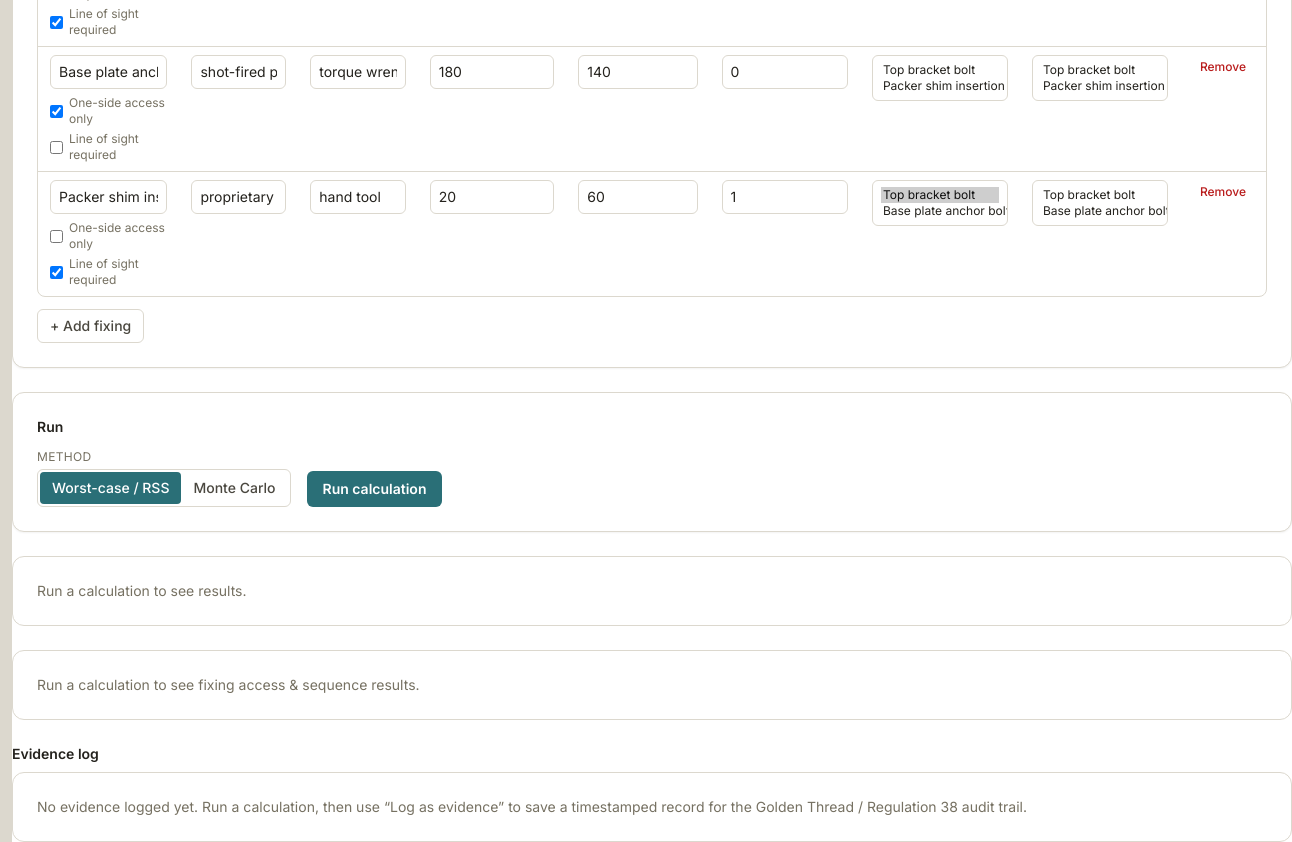
DvaTool end-to-end wiring › runs a worst-case/RSS calculation on the preset junction and shows results
The image size is (1292, 842).
(page scrolled)
Click the button "Run calculation": (374, 489) [306,471,442,507]
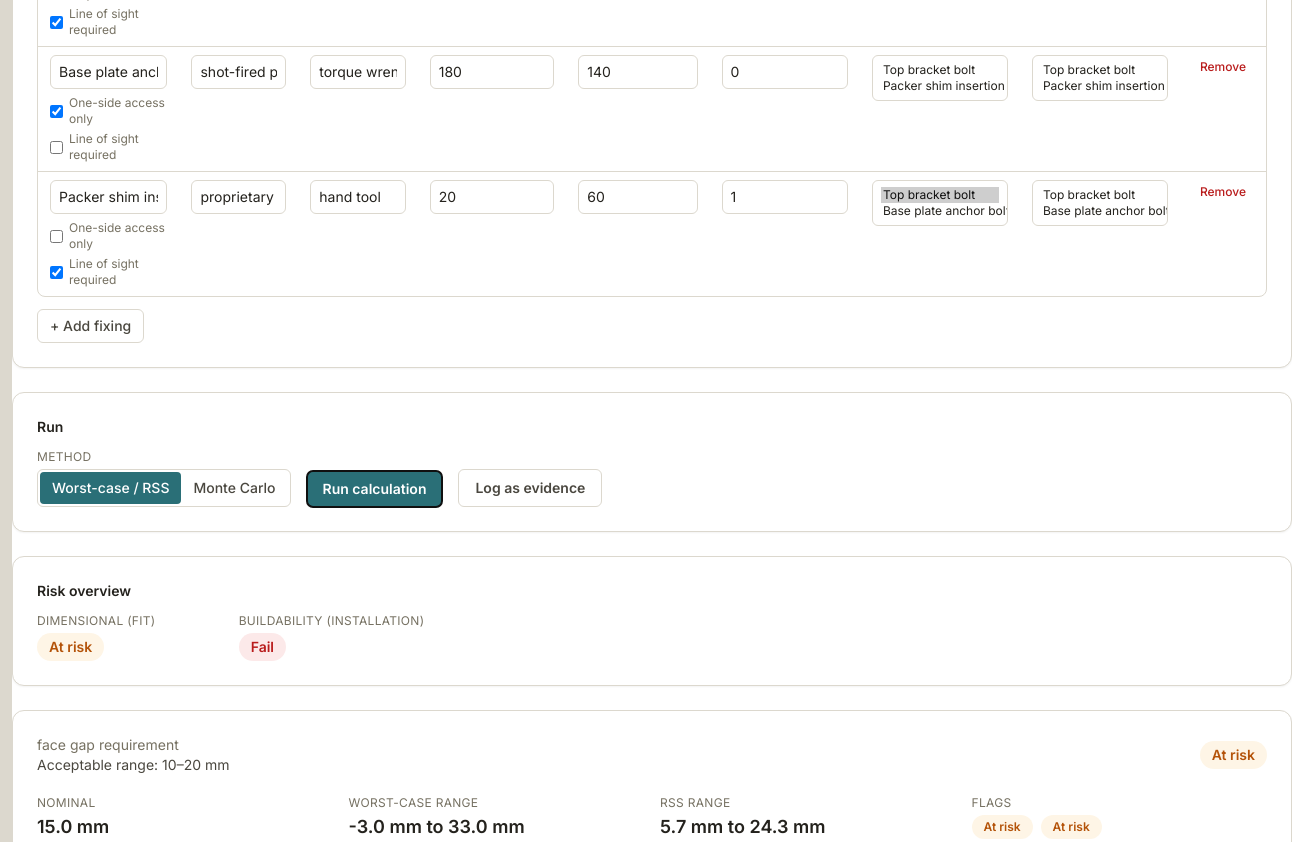
Check: the text "15.0 mm" is shown, box [37,816,109,837]
Check: the text "At risk" below "Dimensional (fit)" is shown, box [49,638,92,655]
